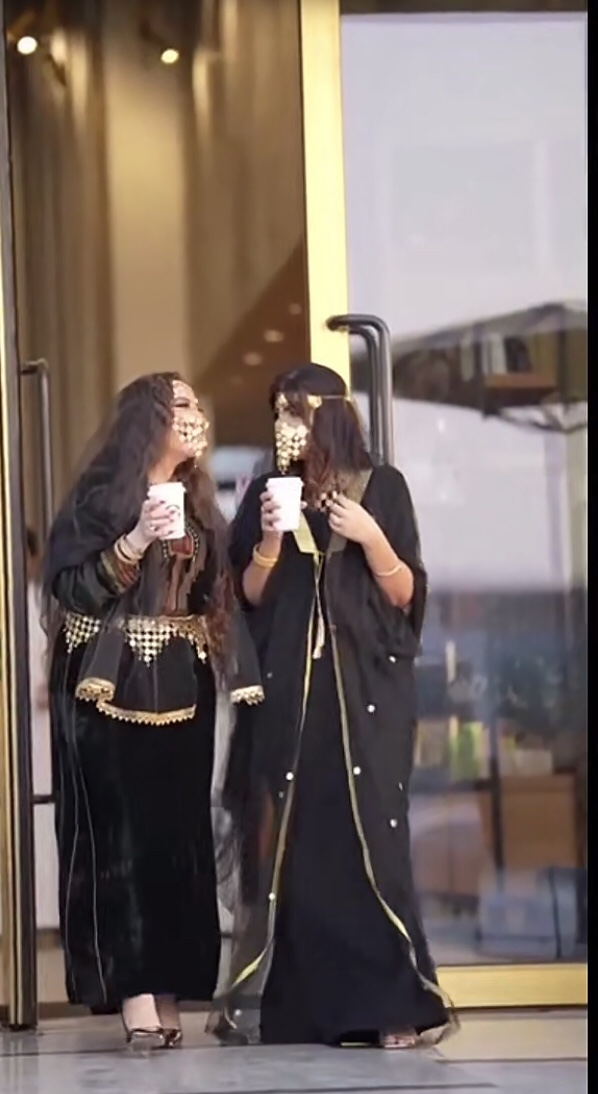Saudi_Founding_Day: (206, 360, 458, 1058), (35, 368, 268, 1058)
